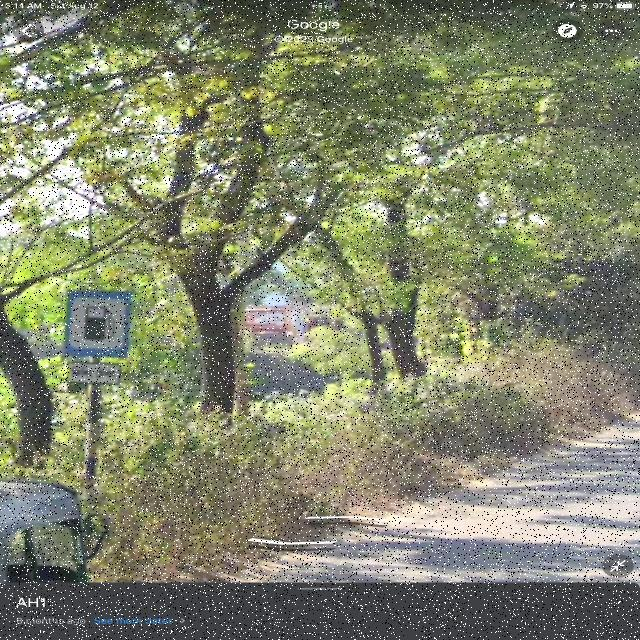Petrol-Station-in-front: (61, 286, 147, 397)
